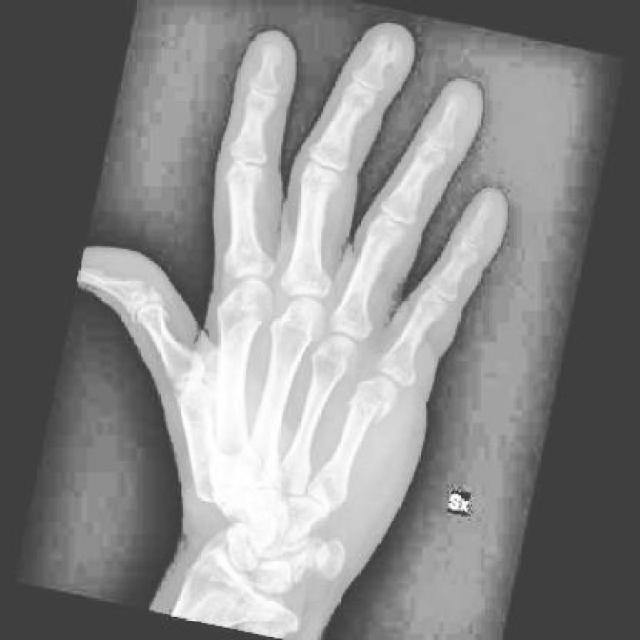Fracture: (342, 368, 401, 424), (120, 274, 165, 310)
